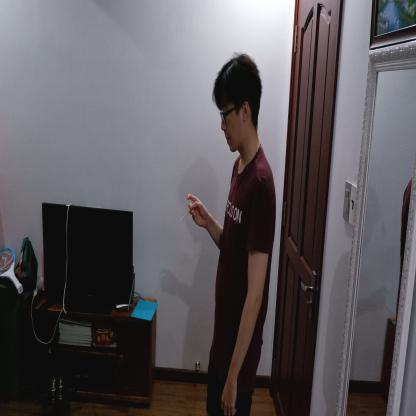cigarette: (180, 209, 190, 223)
person: (185, 53, 279, 415)
